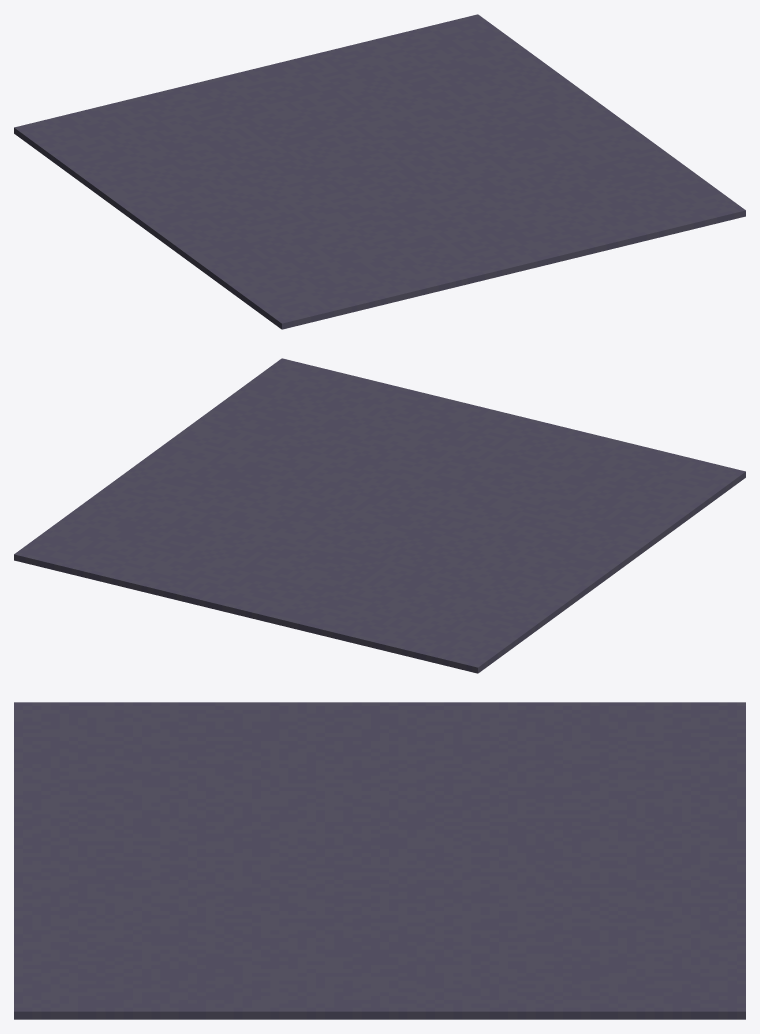
Rendered from floor_01_L.glb.
3 views of the same model, one above another, from view 1: azimuth 30°, elevation 25°; view 2: azimuth 150°, elevation 25°; view 3: azimuth 270°, elevation 25° (orthographic). The views are drawn at different scales.
Visible parts, largest first — view 1: Untitled; view 2: Untitled; view 3: Untitled.
Part boxes in pixels (left/top/right/bottom): Untitled: left=14, top=14, right=745, bottom=329; Untitled: left=14, top=358, right=745, bottom=673; Untitled: left=14, top=702, right=745, bottom=1019.
Bounding box in the file's own units: 2.4 × 0.03 × 2.4.
Materials: 1 (1 with a texture image).
